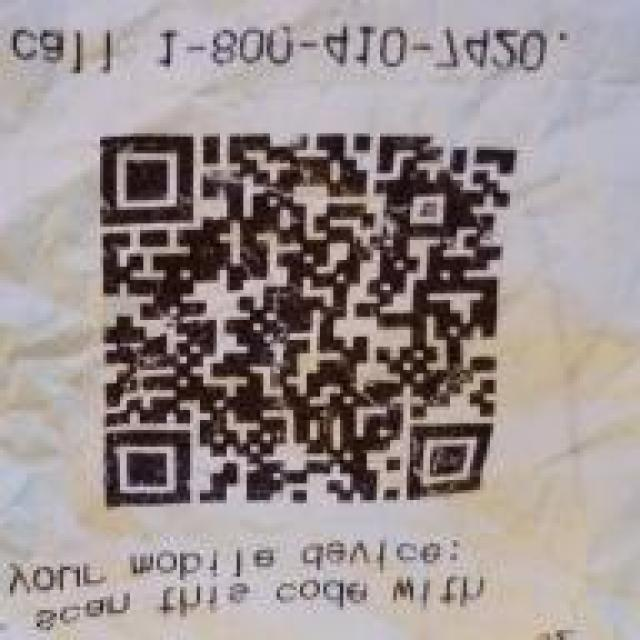QR_CODE: (83, 125, 535, 530)
